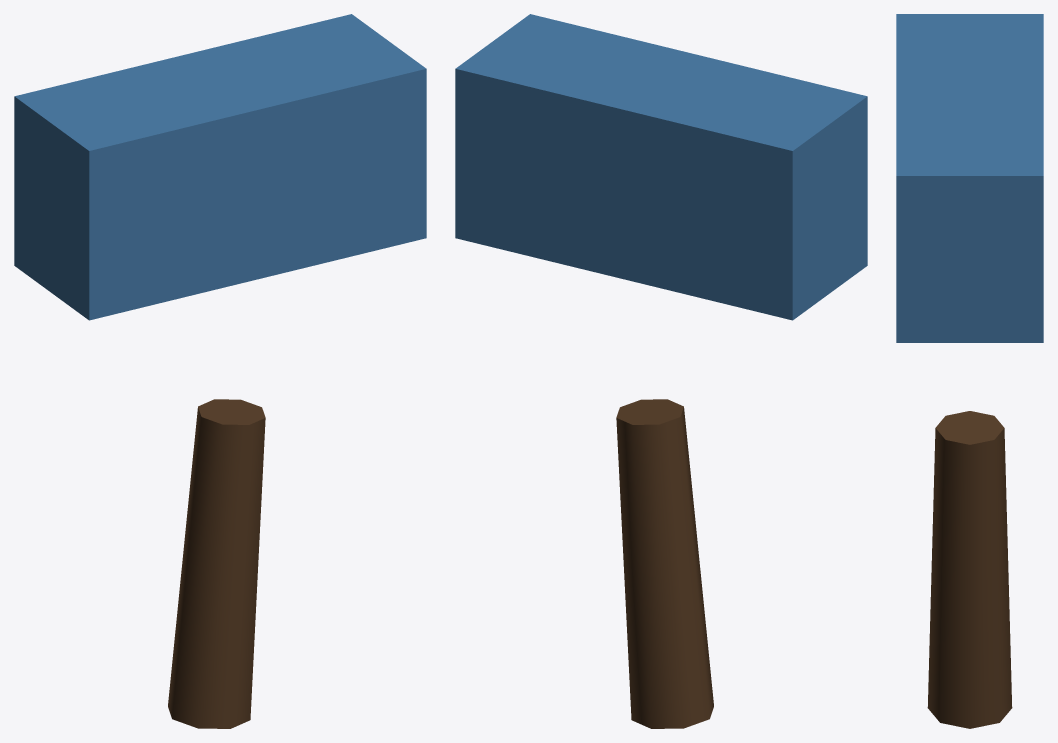
File: wpn_m_03.glb
The picture shows the model from 3 angles, left to right: view 1: azimuth 30°, elevation 25°; view 2: azimuth 150°, elevation 25°; view 3: azimuth 270°, elevation 25°; orthographic projection.
Visible parts, largest first — view 1: heavy_head, grip; view 2: heavy_head, grip; view 3: heavy_head, grip.
Boxes of the visible parts, <box> form: heavy_head: <box>14,14,426,320</box>; grip: <box>168,399,265,728</box>; heavy_head: <box>455,14,867,320</box>; grip: <box>616,399,713,728</box>; heavy_head: <box>896,14,1043,342</box>; grip: <box>927,411,1012,728</box>.
Size of the model in its own units: 0.5 by 0.8937 by 0.192.
